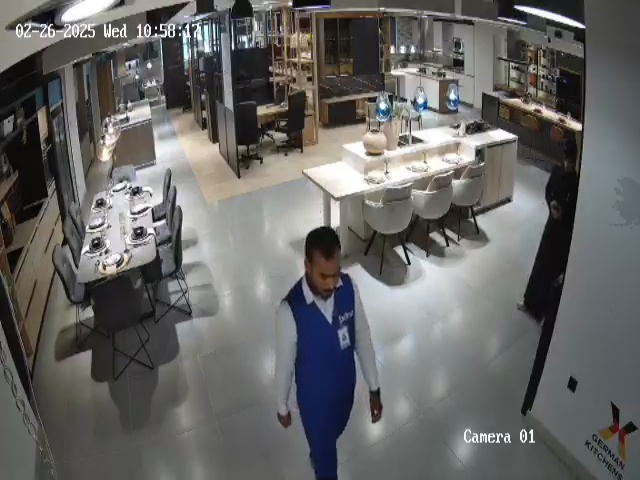employee: (272, 225, 384, 480)
male: (516, 155, 579, 324)
